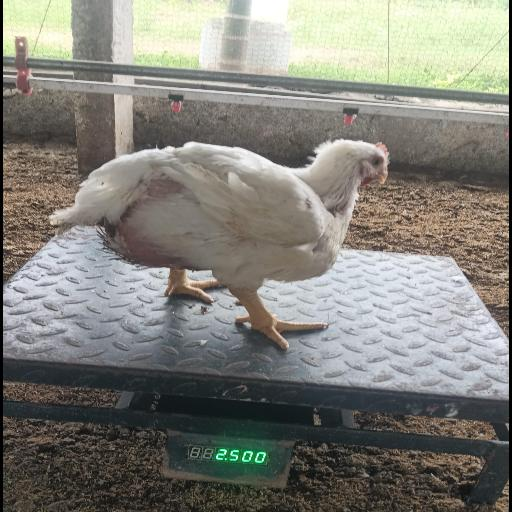chick: (51, 140, 390, 346)
